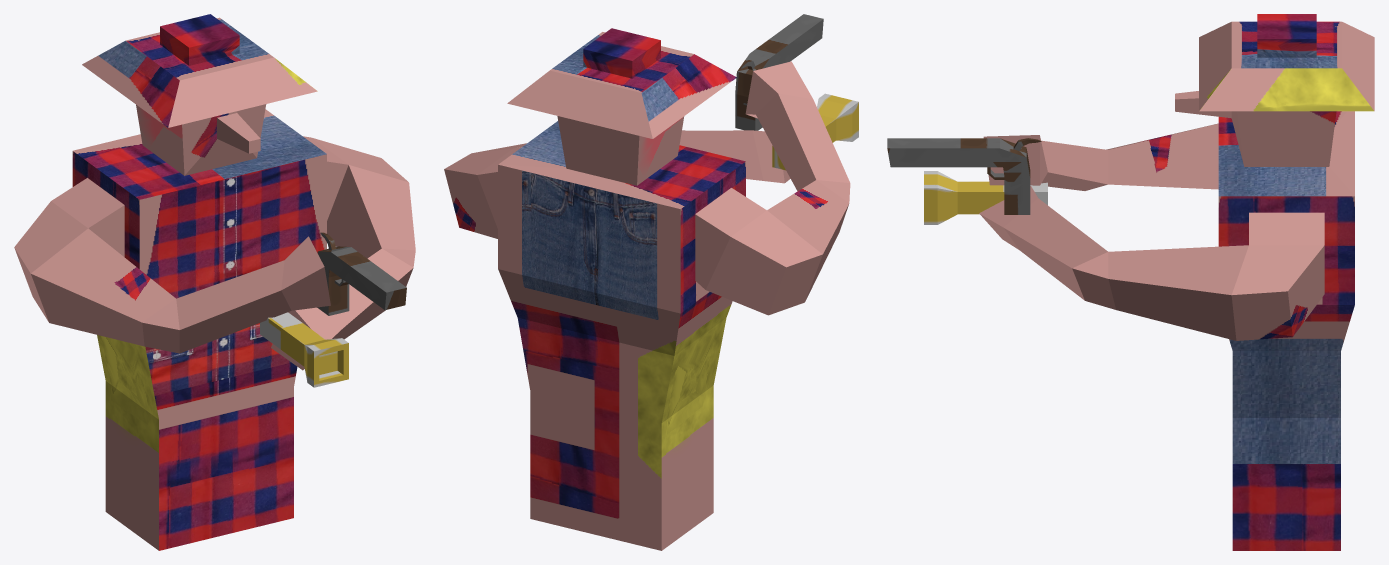
The model's file is player.obj.
3 views of the same model, side by side, from view 1: azimuth 30°, elevation 25°; view 2: azimuth 150°, elevation 25°; view 3: azimuth 270°, elevation 25° (orthographic). The views are drawn at different scales.
Parts seen in each view (by area): view 1: Player; view 2: Player; view 3: Player.
Boxes of the visible parts, box(x1,y1,x2,y2) form: Player: box(14, 14, 415, 550); Player: box(444, 14, 858, 550); Player: box(887, 14, 1374, 550).
Bounding box in the file's own units: 1.57 × 1.96 × 1.76.
3 materials, 3 textured.
